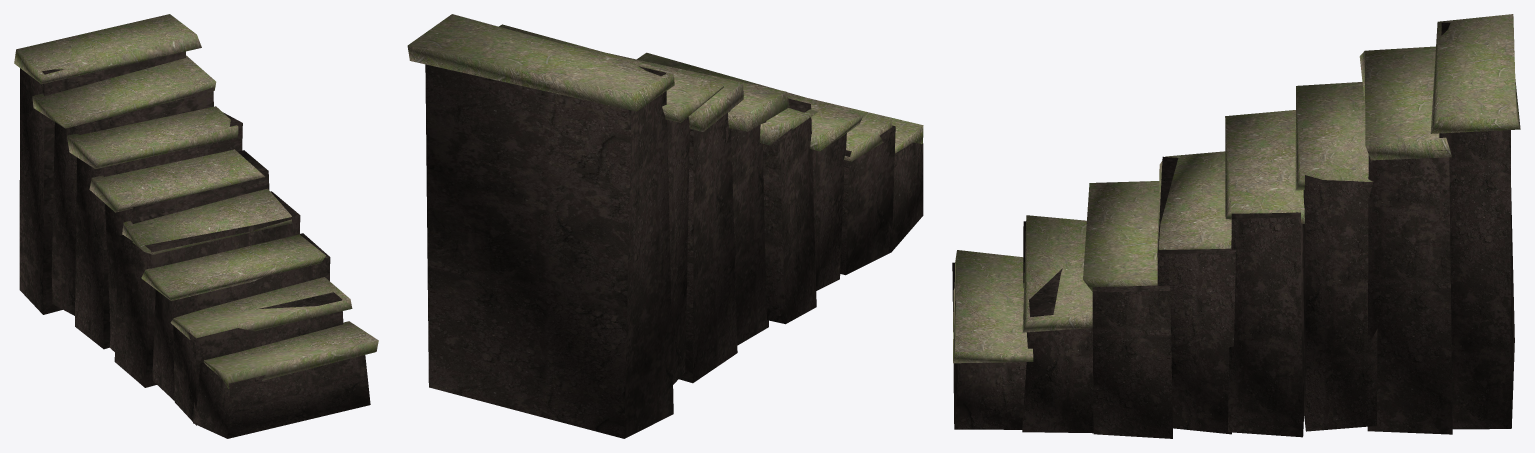
Rendered from kit_lw_mound_steps_p.glb.
3 renders of one model, left to right at view 1: azimuth 30°, elevation 25°; view 2: azimuth 150°, elevation 25°; view 3: azimuth 270°, elevation 25°, orthographic. The views are drawn at different scales.
Visible parts, largest first — view 1: kit_lw_mound_steps_p; view 2: kit_lw_mound_steps_p; view 3: kit_lw_mound_steps_p.
Part boxes in pixels (bbox=[...]): kit_lw_mound_steps_p: bbox=[14, 14, 378, 438]; kit_lw_mound_steps_p: bbox=[407, 14, 923, 438]; kit_lw_mound_steps_p: bbox=[952, 14, 1520, 438].
Bounding box in the file's own units: 1.51 × 2.1 × 3.29.
Materials: 1 (1 with a texture image).
